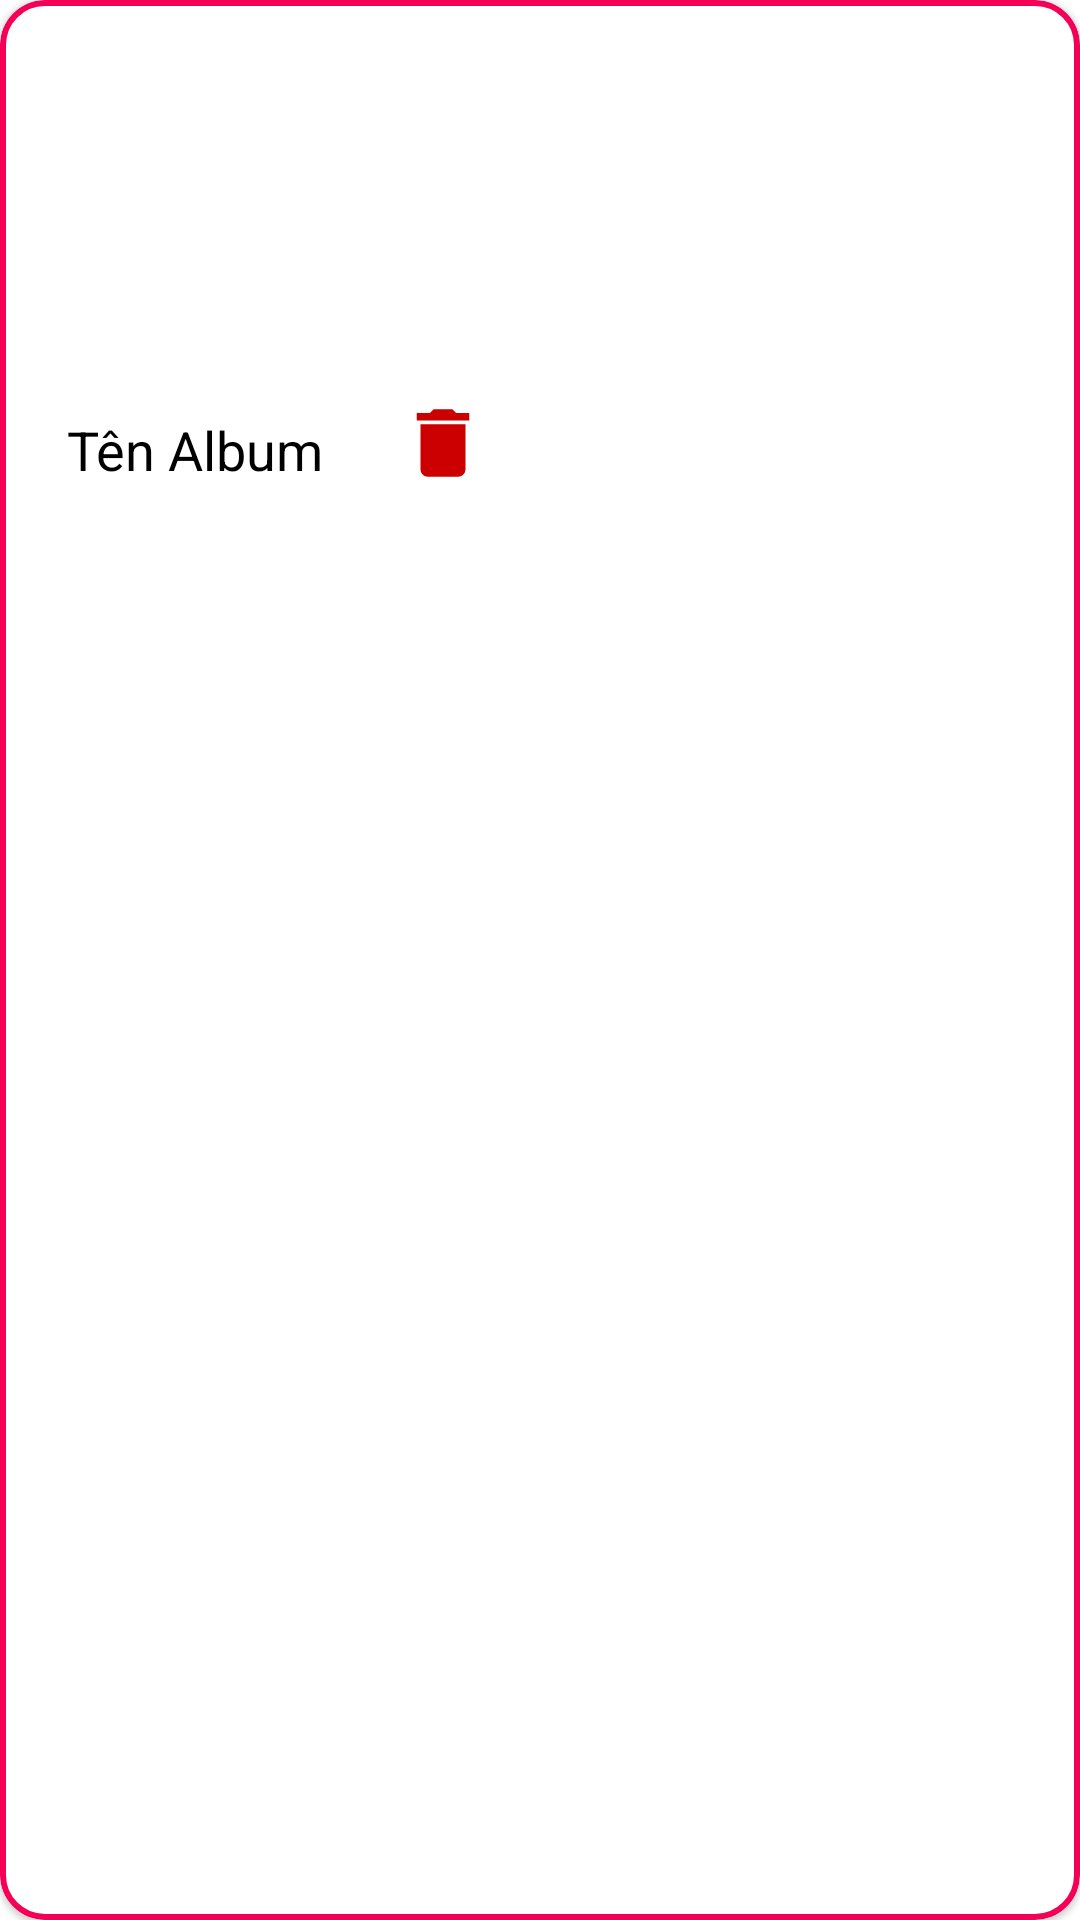

Icon click points for this 1080px x 1920px phone screenshot, format (x,y):
Xoá Album: (443,443)
